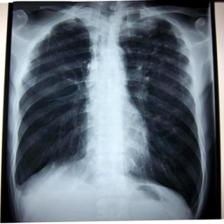tuberculosis: (9, 12, 207, 216)
